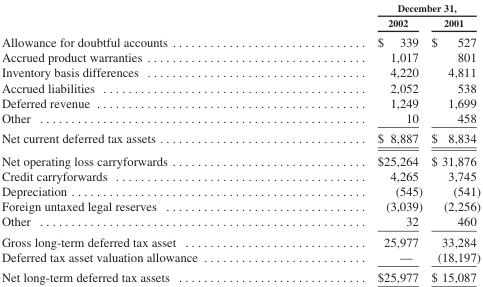table: (0, 1, 479, 283)
table column: (0, 1, 286, 283), (286, 1, 426, 283), (426, 1, 479, 283)
table column header: (0, 1, 479, 31)
table row: (0, 127, 479, 149), (0, 149, 479, 168), (0, 31, 479, 49), (0, 213, 479, 231), (0, 248, 479, 266), (0, 14, 479, 31), (0, 110, 479, 127), (0, 231, 479, 248), (0, 266, 479, 283), (0, 94, 479, 110), (0, 49, 479, 64), (0, 64, 479, 79), (0, 79, 479, 94), (0, 168, 479, 183), (0, 183, 479, 198), (0, 198, 479, 213), (0, 1, 479, 14)
table spanning cell: (286, 1, 479, 14)
